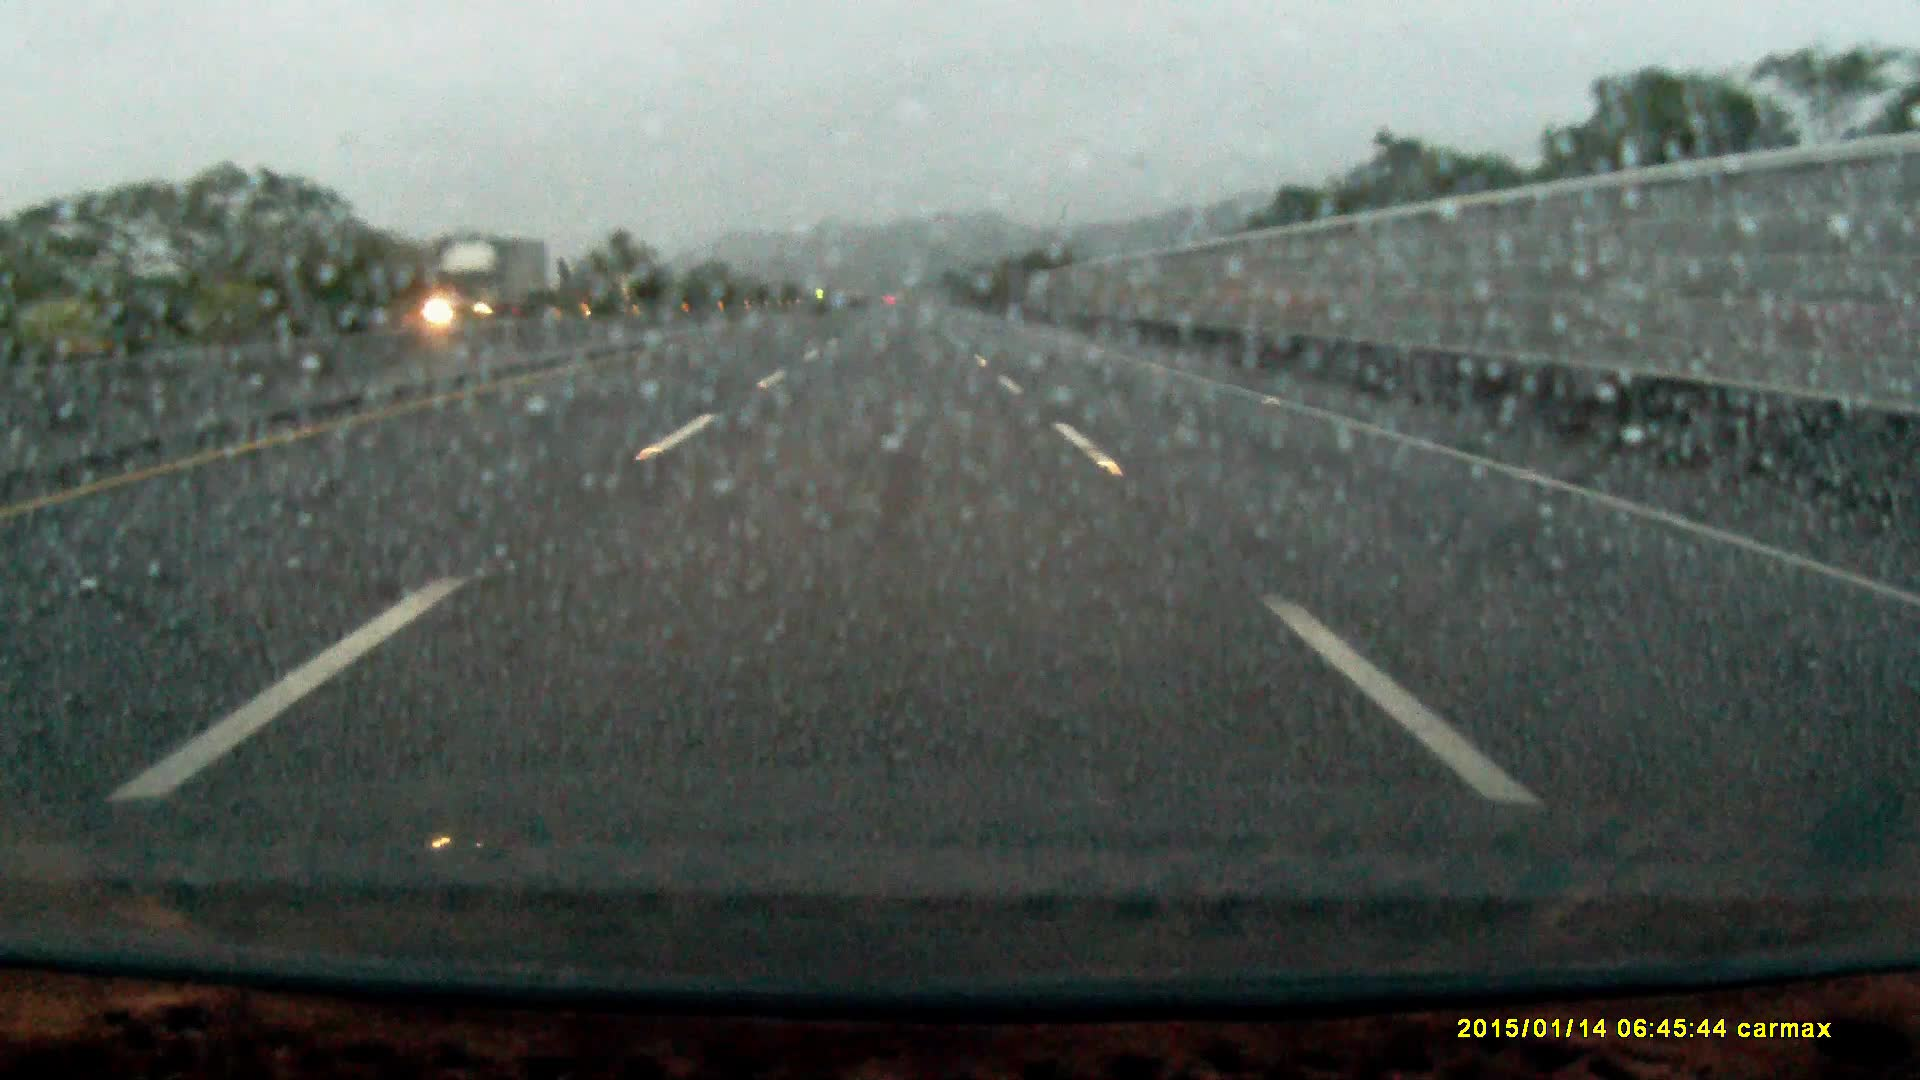vehicle: (425, 239, 555, 319)
